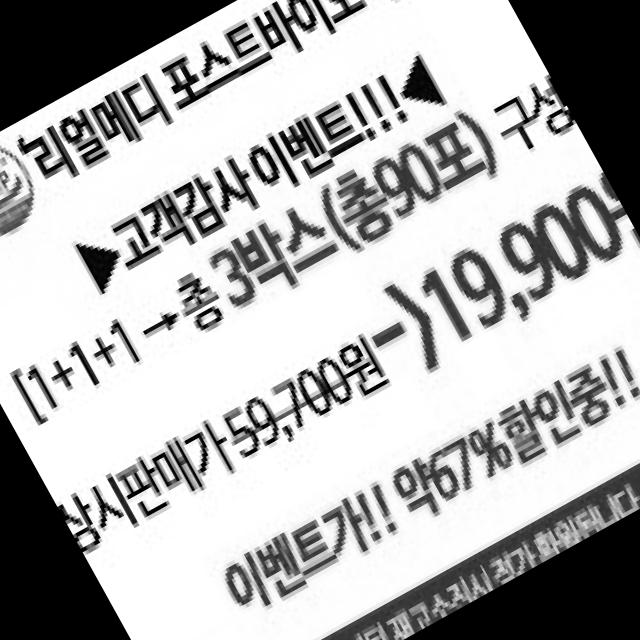GMP: (0, 130, 47, 249)
